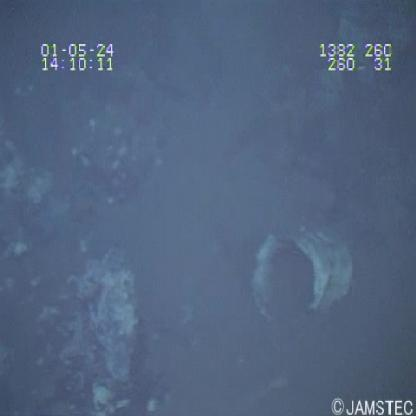Rác: (247, 221, 354, 327)
